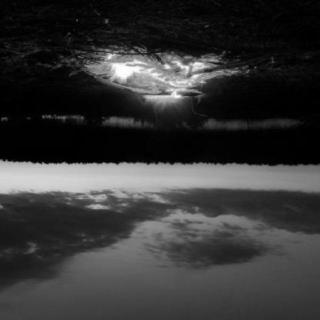Fire: (61, 42, 275, 154)
